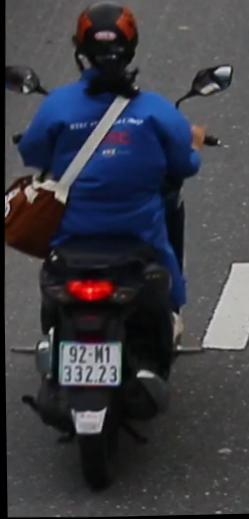LP: (53, 337, 124, 399)
helmet: (71, 0, 143, 78)
